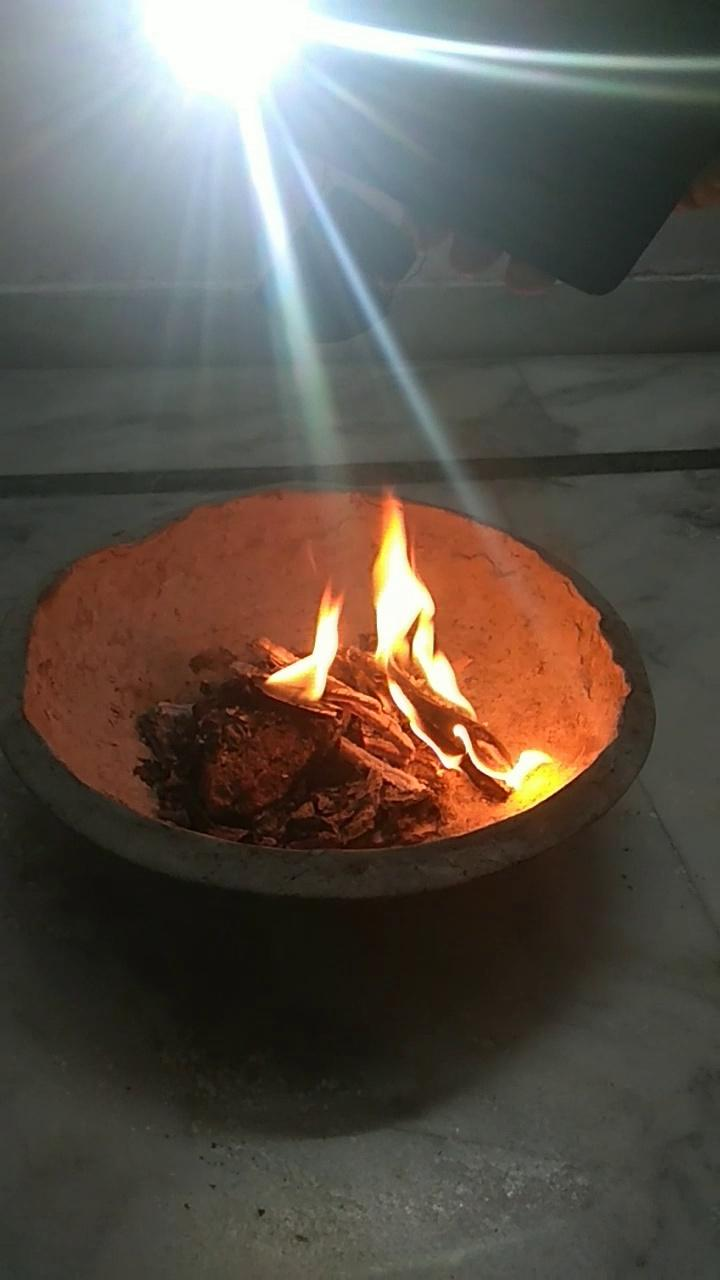fire: (372, 465, 552, 796), (265, 577, 347, 717)
